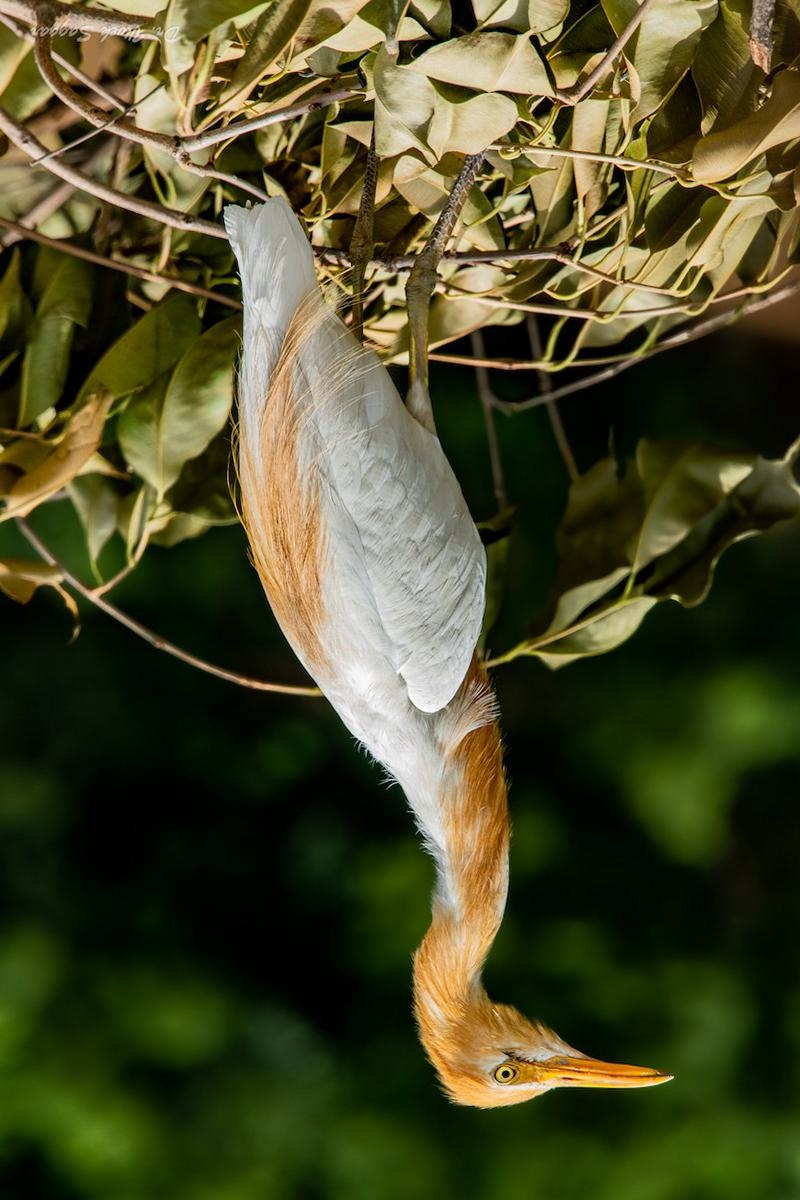egret: (155, 151, 678, 1138)
